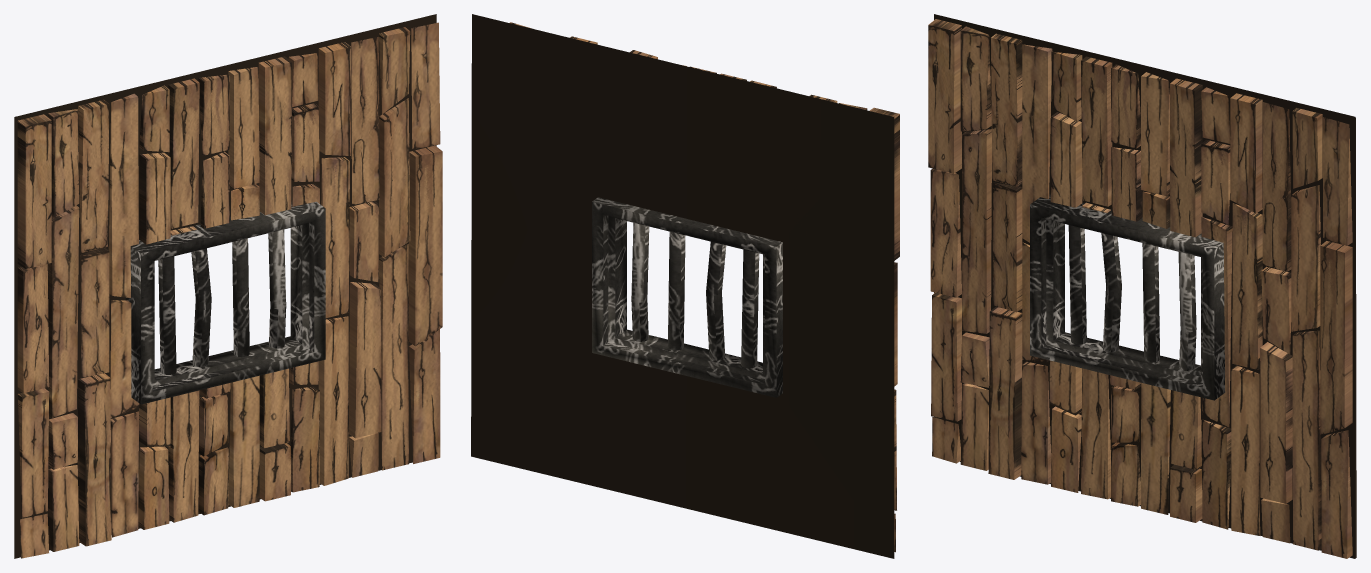
Rendered from Grill WALL.glb.
The picture shows the model from 3 angles, left to right: view 1: azimuth 30°, elevation 25°; view 2: azimuth 150°, elevation 25°; view 3: azimuth 330°, elevation 25°; orthographic projection.
Visible parts, largest first — view 1: Wood Wall .001; view 2: Wood Wall .001; view 3: Wood Wall .001.
Part boxes in pixels (bbox=[...]): Wood Wall .001: bbox=[14, 14, 442, 558]; Wood Wall .001: bbox=[471, 14, 899, 558]; Wood Wall .001: bbox=[928, 14, 1356, 558].
Bounding box in the file's own units: 2 × 2 × 0.1777.
2 materials, 2 textured.
